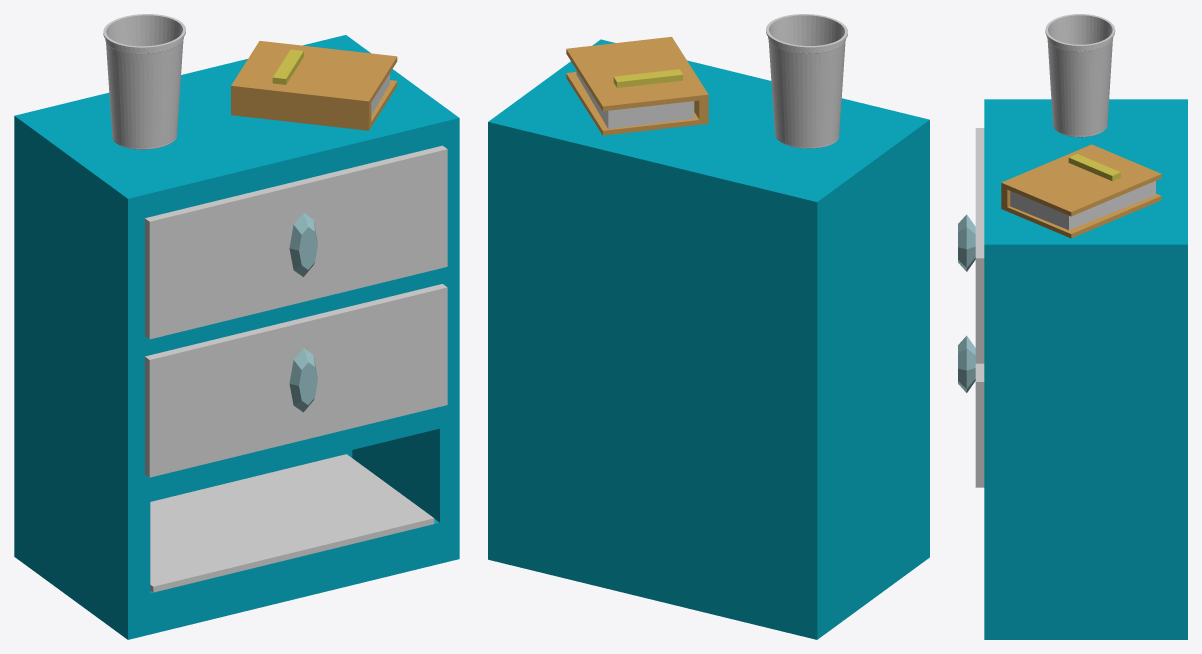
File: Sidetable 149.glb
3 renders of one model, left to right at view 1: azimuth 30°, elevation 25°; view 2: azimuth 150°, elevation 25°; view 3: azimuth 270°, elevation 25°, orthographic. The views are drawn at different scales.
Visible parts, largest first — view 1: Mesh_Mesh_head_geo.001_lambert2SG.001; view 2: Mesh_Mesh_head_geo.001_lambert2SG.001; view 3: Mesh_Mesh_head_geo.001_lambert2SG.001.
Part boxes in pixels (bbox=[...]): Mesh_Mesh_head_geo.001_lambert2SG.001: bbox=[14, 14, 459, 639]; Mesh_Mesh_head_geo.001_lambert2SG.001: bbox=[488, 14, 929, 639]; Mesh_Mesh_head_geo.001_lambert2SG.001: bbox=[958, 14, 1187, 639].
Bounding box in the file's own units: 59 × 94 × 39.5.
